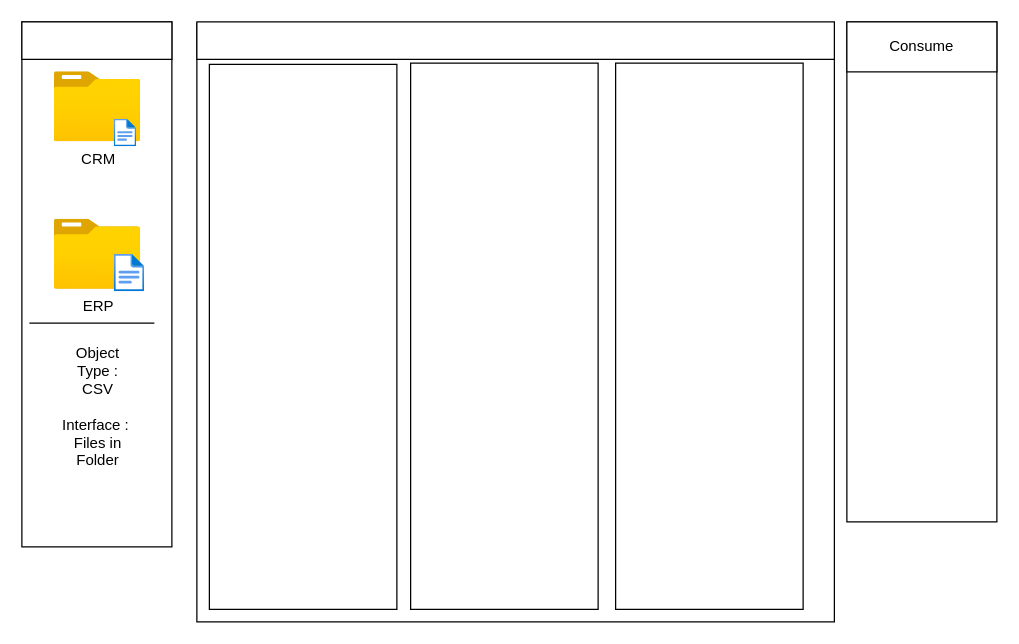
Image size: 1019x644. Some labels were removed from this diagram. Each missing label, with the centre of its shape:
"Data Warehouse" goes at (515,40).
"Source" goes at (96,40).
